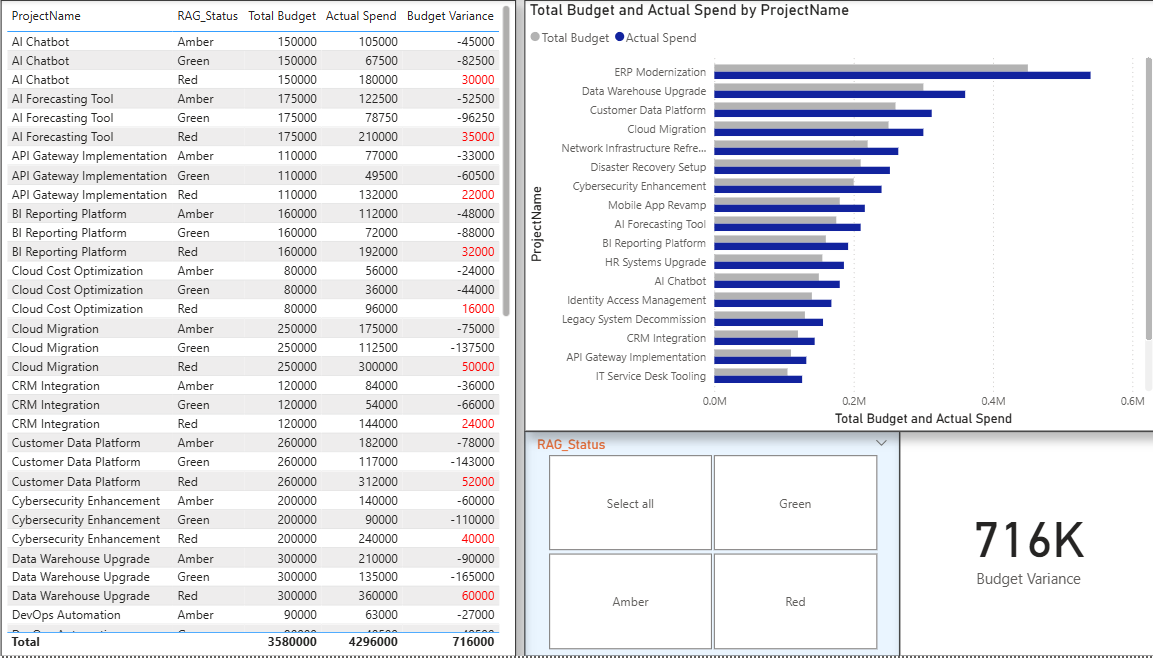

The page's visual inventory and layout, read from the dashboard file:
{"tool":"powerbi","page":{"name":"Page 1","canvas":[1280,720],"ordinal":0},"visuals":[{"type":"tableEx","fields":{"Values":["Project_List.ProjectName","Project_Updates.RAG_Status","Project_List.Total Budget","Project_List.Actual Spend","Project_List.Budget Variance"]},"box":[9.6,0,565.4,720.4],"z":0},{"type":"slicer","fields":{"Values":["Project_Updates.RAG_Status"]},"box":[584.6,473.4,411.7,247],"z":1},{"type":"card","fields":{"Values":["Project_List.Budget Variance"]},"box":[996.2,473.4,284,247],"z":2},{"type":"clusteredBarChart","fields":{"Category":["Project_List.ProjectName"],"Y":["Project_List.Total Budget","Project_List.Actual Spend"]},"box":[584.6,0,695.7,473.4],"z":3}]}

Visuals, with their boxes in screenshot pixels (x1, y1, x2, y2), scaled from the page's 1280x720 canvas onto the 1153x658 screenshot:
tableEx - Project_List.ProjectName x Project_Updates.RAG_Status: BBox(9, 0, 518, 657)
slicer - Project_Updates.RAG_Status: BBox(527, 433, 897, 657)
card - Project_List.Budget Variance: BBox(897, 433, 1152, 657)
clusteredBarChart - Project_List.ProjectName x Project_List.Total Budget: BBox(527, 0, 1152, 433)
